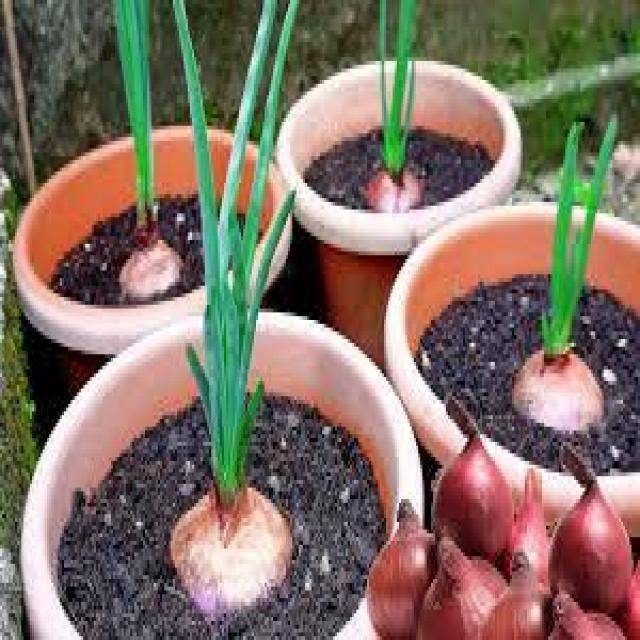Onion: (171, 0, 307, 518), (108, 0, 180, 255), (547, 98, 616, 352), (368, 4, 417, 194)
